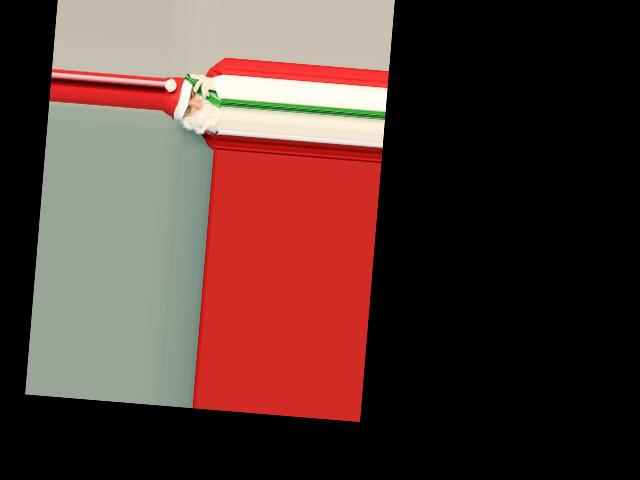beer: (183, 72, 224, 106)
